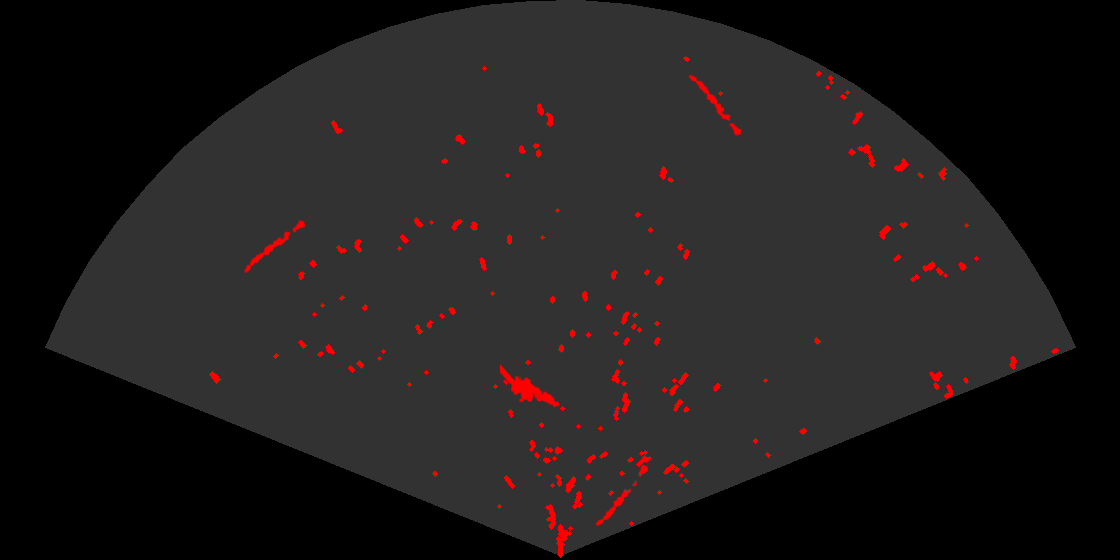chain: (243, 214, 311, 275), (594, 459, 654, 528), (687, 73, 747, 140)
frogman: (500, 363, 561, 409)
